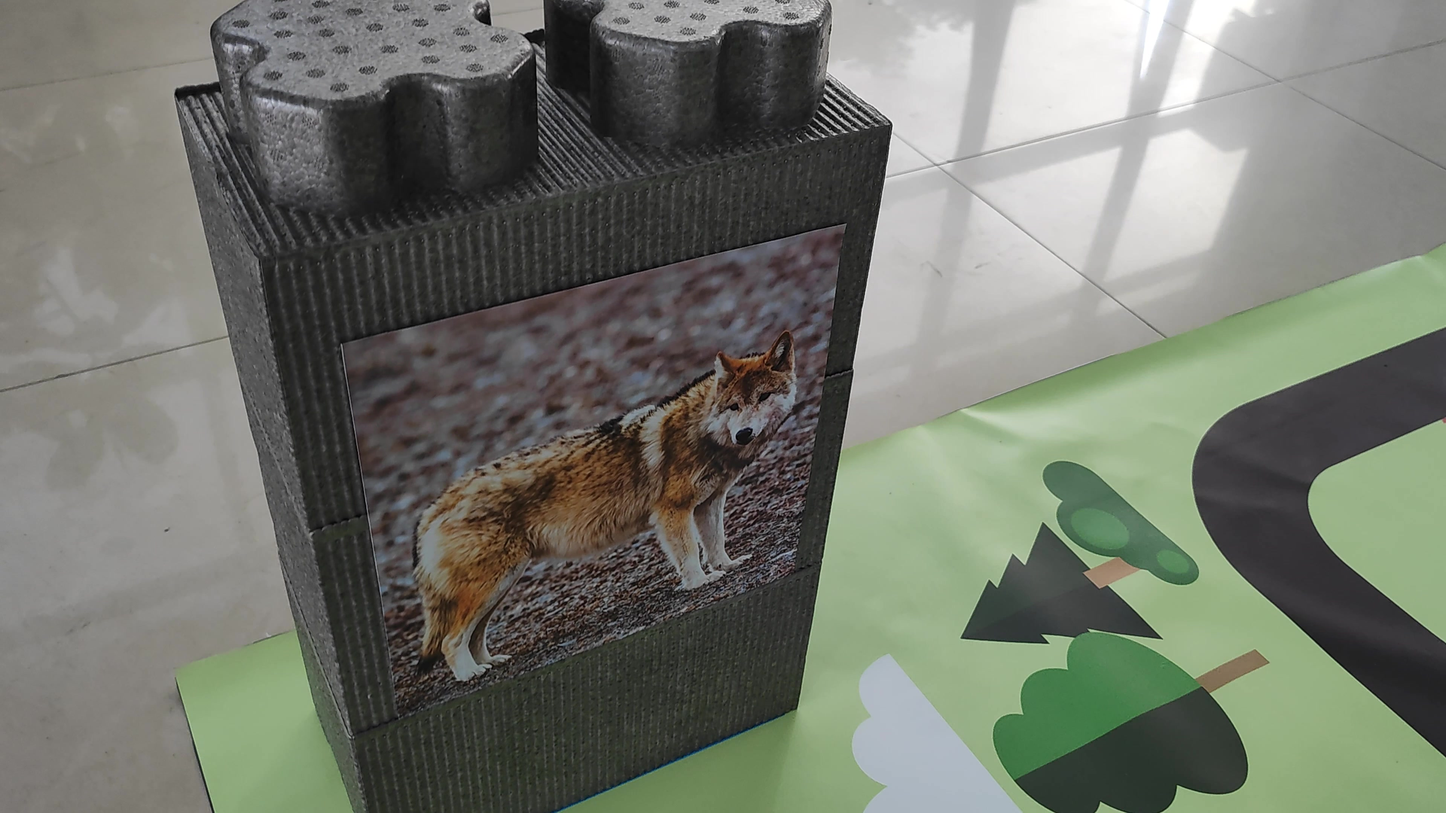wolf: (394, 324, 805, 695)
